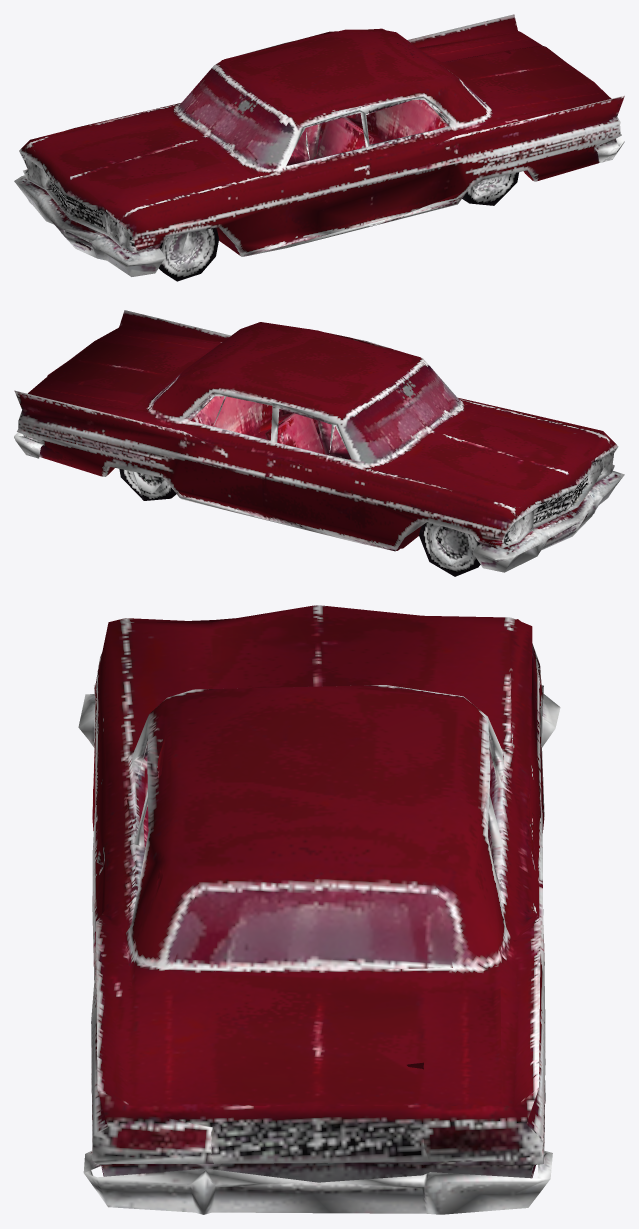
File: classic.glb
3 renders of one model, top to bottom at view 1: azimuth 30°, elevation 25°; view 2: azimuth 150°, elevation 25°; view 3: azimuth 270°, elevation 25°, orthographic. The views are drawn at different scales.
Parts seen in each view (by area): view 1: geometry_0; view 2: geometry_0; view 3: geometry_0.
Boxes of the visible parts, left/top/right/bottom form: geometry_0: left=14, top=14, right=624, bottom=281; geometry_0: left=14, top=310, right=624, bottom=576; geometry_0: left=78, top=605, right=560, bottom=1214.
Size of the model in its own units: 1.9 by 0.4725 by 0.772.
1 material, 1 textured.
